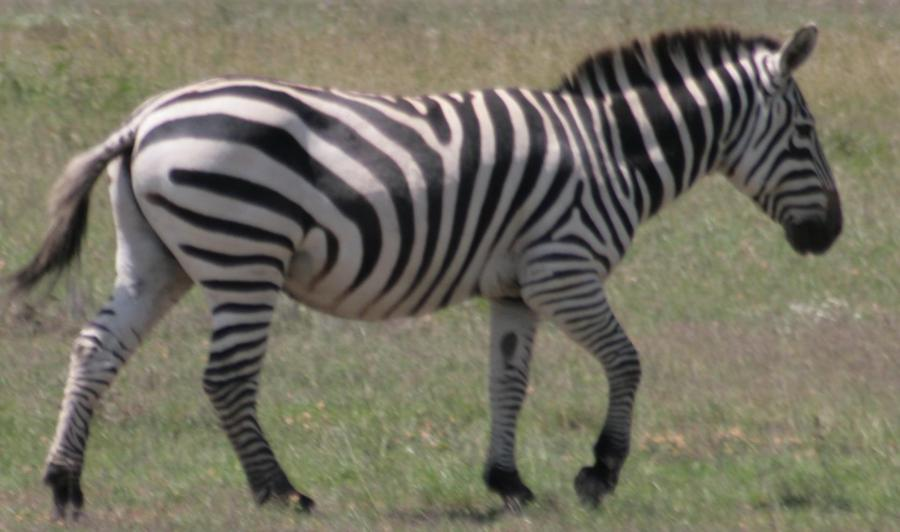zebra_plains: (147, 37, 647, 338)
